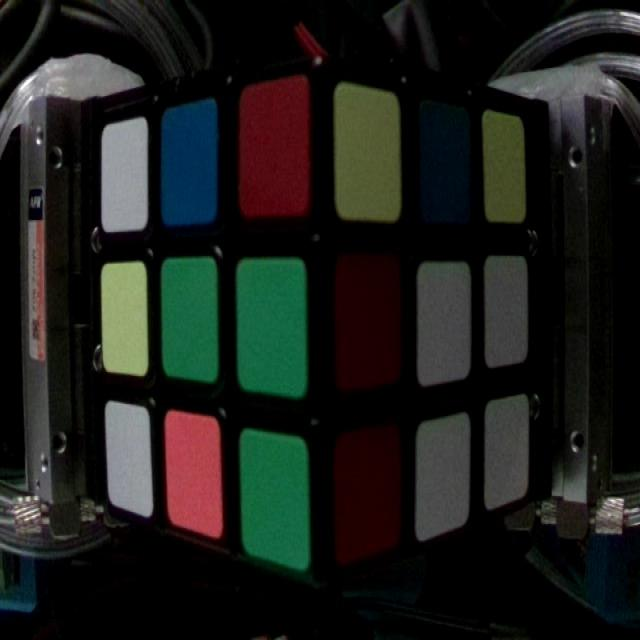b: (422, 97, 474, 222), (162, 109, 216, 224)
g: (242, 435, 314, 576), (236, 263, 308, 395), (163, 264, 220, 381)
o: (166, 422, 223, 534)
r: (239, 88, 311, 217), (334, 266, 398, 386), (336, 436, 399, 556)
w: (107, 399, 154, 525), (417, 426, 471, 532), (421, 266, 468, 378), (101, 122, 148, 231), (483, 260, 531, 360), (487, 402, 531, 503)
y: (335, 88, 404, 222), (486, 113, 527, 228), (101, 266, 144, 374)
